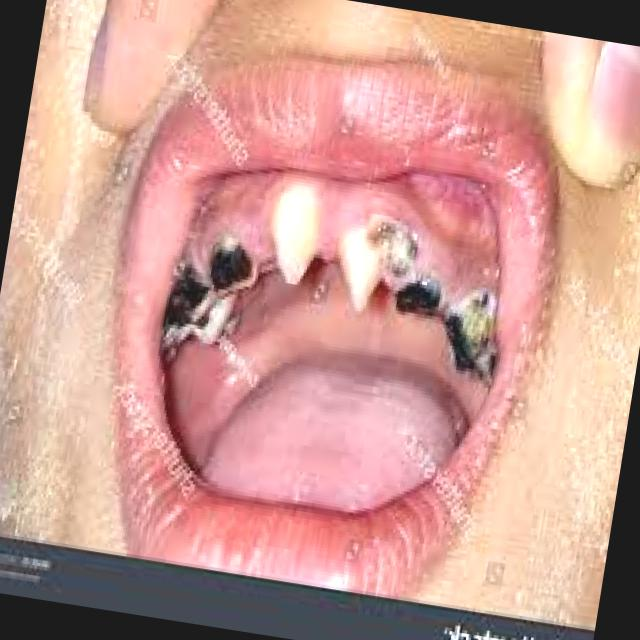caries: (161, 222, 266, 362), (352, 203, 437, 304), (432, 278, 510, 381)
